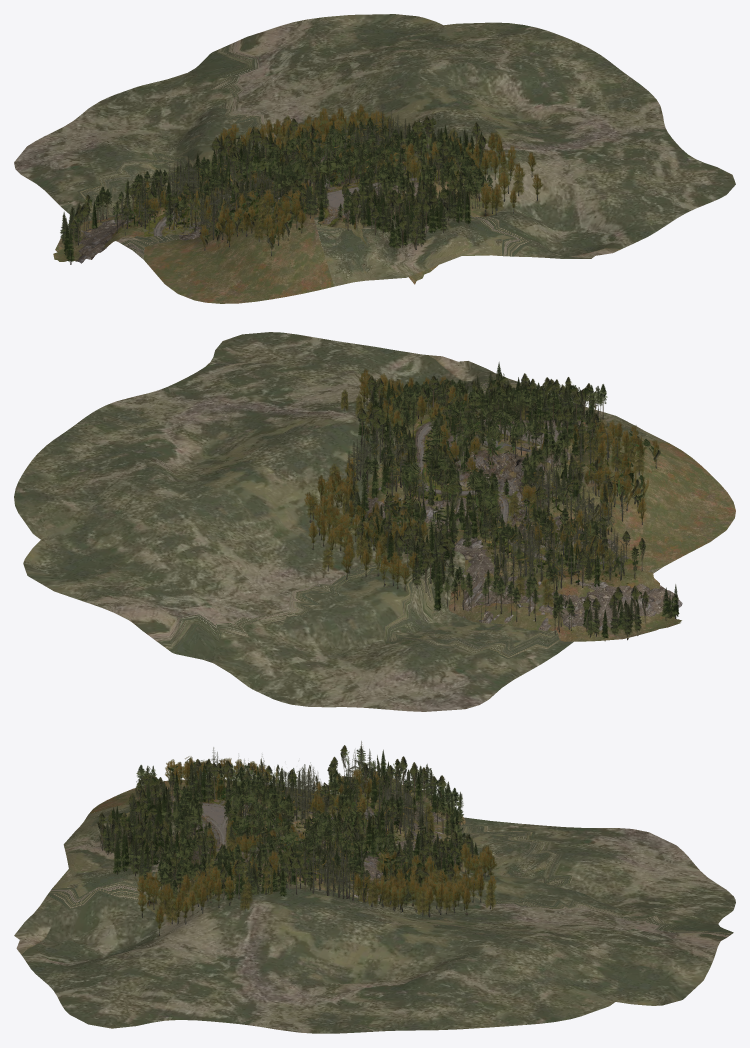
File: mapa_novo2.glb
3 renders of one model, top to bottom at view 1: azimuth 30°, elevation 25°; view 2: azimuth 150°, elevation 25°; view 3: azimuth 270°, elevation 25°, orthographic. The views are drawn at different scales.
Visible parts, largest first — view 1: Background_Tree_Atlas.020_Terrain_Far_0, Background_Tree_Atlas.001_Background_Tree_Atlas_0, Background_Tree_Atlas.021_Aerial_Grass_0, Background_Tree_Atlas.006_Trunk_Oak_0, Background_Tree_Atlas.019_Sloped_Rock_0, Background_Tree_Atlas.024_Grass_Close_0, Background_Tree_Atlas.025_Dirt_Road_0, Background_Tree_Atlas.013_Rock_Decal_0; view 2: Background_Tree_Atlas.020_Terrain_Far_0, Background_Tree_Atlas.001_Background_Tree_Atlas_0, Background_Tree_Atlas.021_Aerial_Grass_0, Background_Tree_Atlas.019_Sloped_Rock_0, Background_Tree_Atlas.006_Trunk_Oak_0, Background_Tree_Atlas.022_Tall_Cliff_0, Background_Tree_Atlas.024_Grass_Close_0, Background_Tree_Atlas.013_Rock_Decal_0, Background_Tree_Atlas.025_Dirt_Road_0; view 3: Background_Tree_Atlas.020_Terrain_Far_0, Background_Tree_Atlas.001_Background_Tree_Atlas_0, Background_Tree_Atlas.021_Aerial_Grass_0, Background_Tree_Atlas.006_Trunk_Oak_0, Background_Tree_Atlas.019_Sloped_Rock_0, Background_Tree_Atlas.025_Dirt_Road_0.
Boxes of the visible parts, x1,y1,x2,y2 form: Background_Tree_Atlas.020_Terrain_Far_0: [14, 14, 735, 286]; Background_Tree_Atlas.001_Background_Tree_Atlas_0: [60, 103, 542, 262]; Background_Tree_Atlas.021_Aerial_Grass_0: [53, 153, 504, 303]; Background_Tree_Atlas.006_Trunk_Oak_0: [69, 118, 518, 264]; Background_Tree_Atlas.019_Sloped_Rock_0: [75, 155, 418, 263]; Background_Tree_Atlas.024_Grass_Close_0: [143, 161, 439, 236]; Background_Tree_Atlas.025_Dirt_Road_0: [153, 169, 420, 236]; Background_Tree_Atlas.013_Rock_Decal_0: [144, 168, 415, 235]; Background_Tree_Atlas.020_Terrain_Far_0: [14, 332, 668, 711]; Background_Tree_Atlas.001_Background_Tree_Atlas_0: [304, 362, 679, 640]; Background_Tree_Atlas.021_Aerial_Grass_0: [361, 408, 735, 641]; Background_Tree_Atlas.019_Sloped_Rock_0: [360, 418, 682, 634]; Background_Tree_Atlas.006_Trunk_Oak_0: [313, 389, 676, 640]; Background_Tree_Atlas.022_Tall_Cliff_0: [466, 450, 615, 551]; Background_Tree_Atlas.024_Grass_Close_0: [397, 418, 633, 568]; Background_Tree_Atlas.013_Rock_Decal_0: [414, 421, 625, 567]; Background_Tree_Atlas.025_Dirt_Road_0: [417, 422, 628, 564]; Background_Tree_Atlas.020_Terrain_Far_0: [14, 790, 735, 1033]; Background_Tree_Atlas.001_Background_Tree_Atlas_0: [96, 741, 497, 933]; Background_Tree_Atlas.021_Aerial_Grass_0: [88, 775, 467, 916]; Background_Tree_Atlas.006_Trunk_Oak_0: [101, 741, 490, 924]; Background_Tree_Atlas.019_Sloped_Rock_0: [171, 777, 466, 901]; Background_Tree_Atlas.025_Dirt_Road_0: [171, 790, 376, 872].
Bounding box in the file's own units: 549 × 111 × 547.
26 materials, 26 textured.
